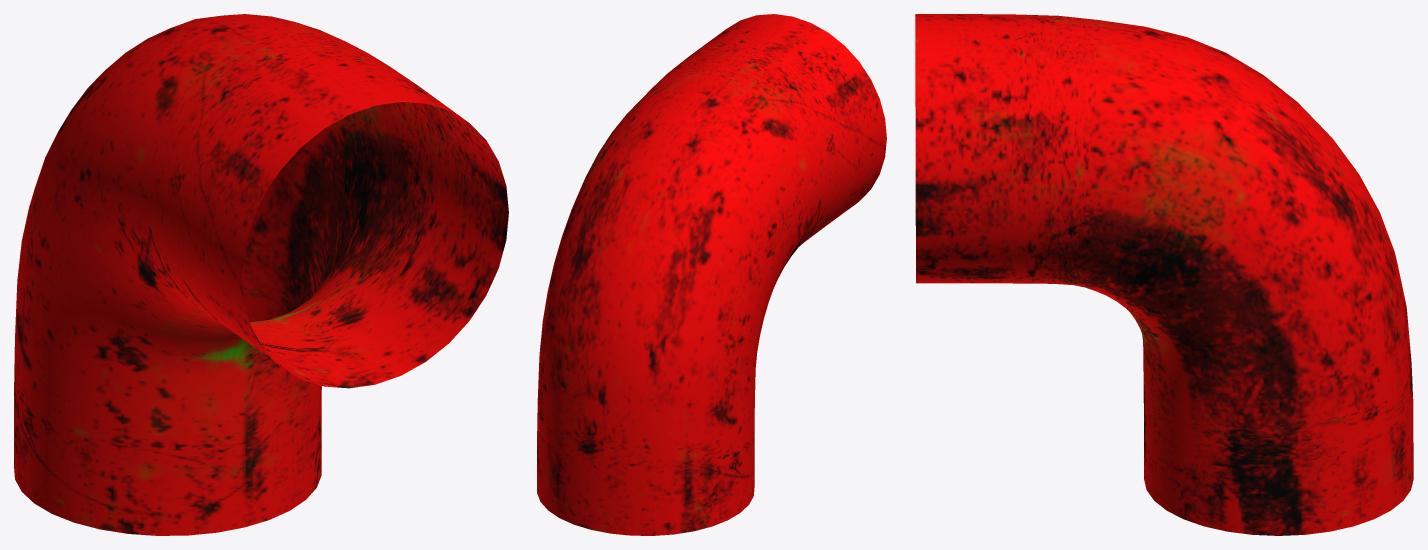
File: SM_IronPipe_turning_01.fbx
The picture shows the model from 3 angles, left to right: view 1: azimuth 30°, elevation 25°; view 2: azimuth 150°, elevation 25°; view 3: azimuth 270°, elevation 25°; orthographic projection. The views are drawn at different scales.
Parts seen in each view (by area): view 1: SM_IronPipe_turning_01_LOD0; view 2: SM_IronPipe_turning_01_LOD0; view 3: SM_IronPipe_turning_01_LOD0.
Part boxes in pixels (box(x1,y1,x2,y2)): SM_IronPipe_turning_01_LOD0: box(14, 14, 508, 535); SM_IronPipe_turning_01_LOD0: box(537, 14, 886, 535); SM_IronPipe_turning_01_LOD0: box(915, 14, 1413, 535).
Bounding box in the file's own units: 14.85 × 27.45 × 27.51.
